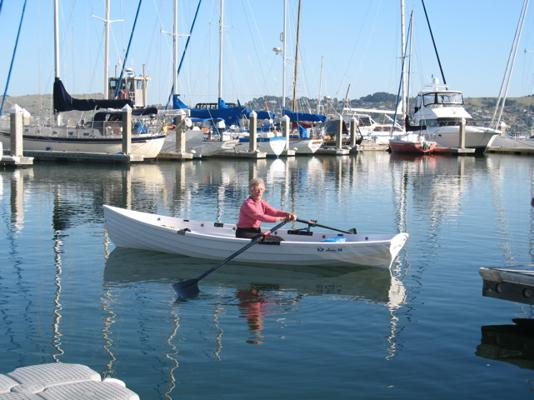person: (237, 179, 298, 244)
